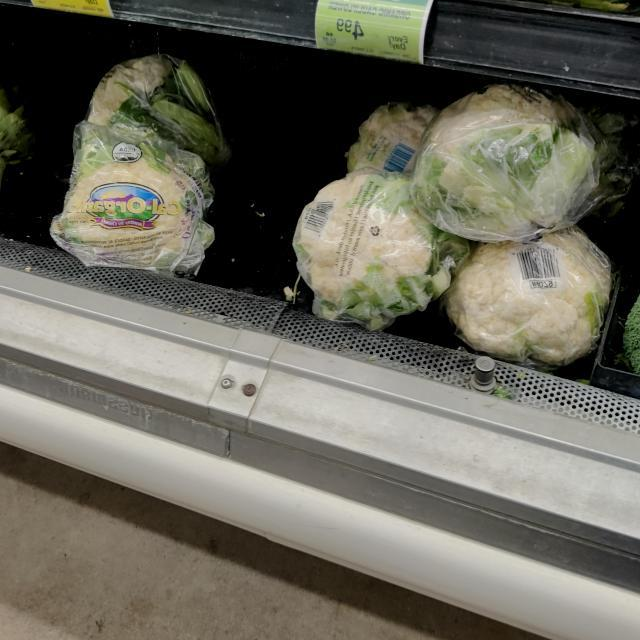broccoli: (620, 260, 640, 386)
